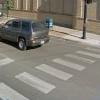Crosswalk: (8, 50, 93, 95)
